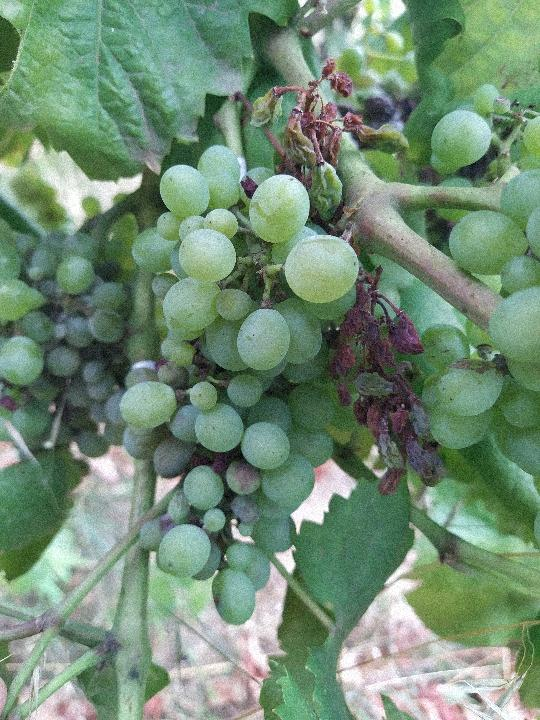grape: (117, 138, 441, 629)
